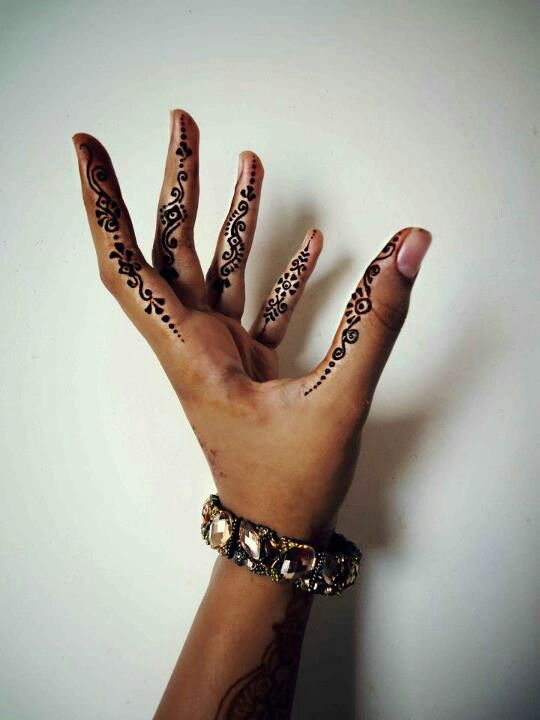finger: (65, 130, 191, 339), (147, 94, 210, 308), (253, 208, 327, 346), (211, 131, 265, 313)
